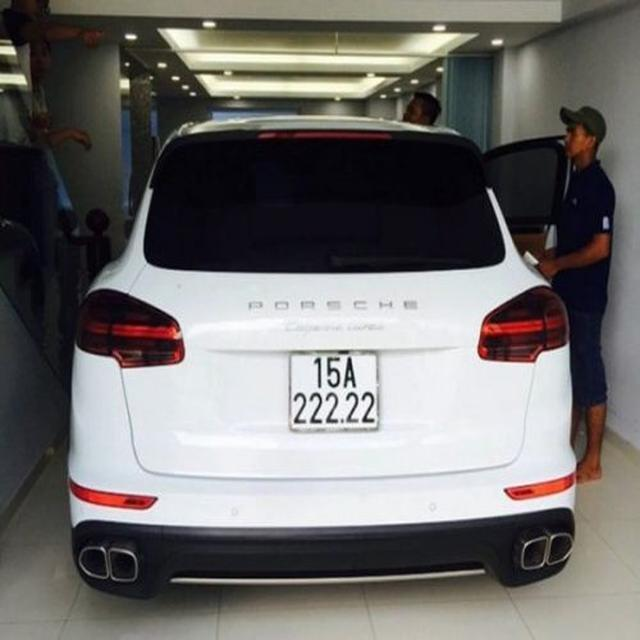car: (69, 100, 586, 605)
plate: (274, 343, 392, 442)
